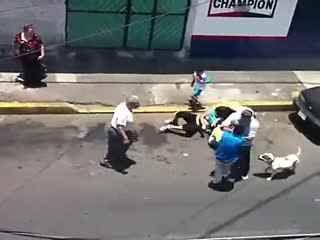Fall-Detected: (153, 102, 224, 139)
